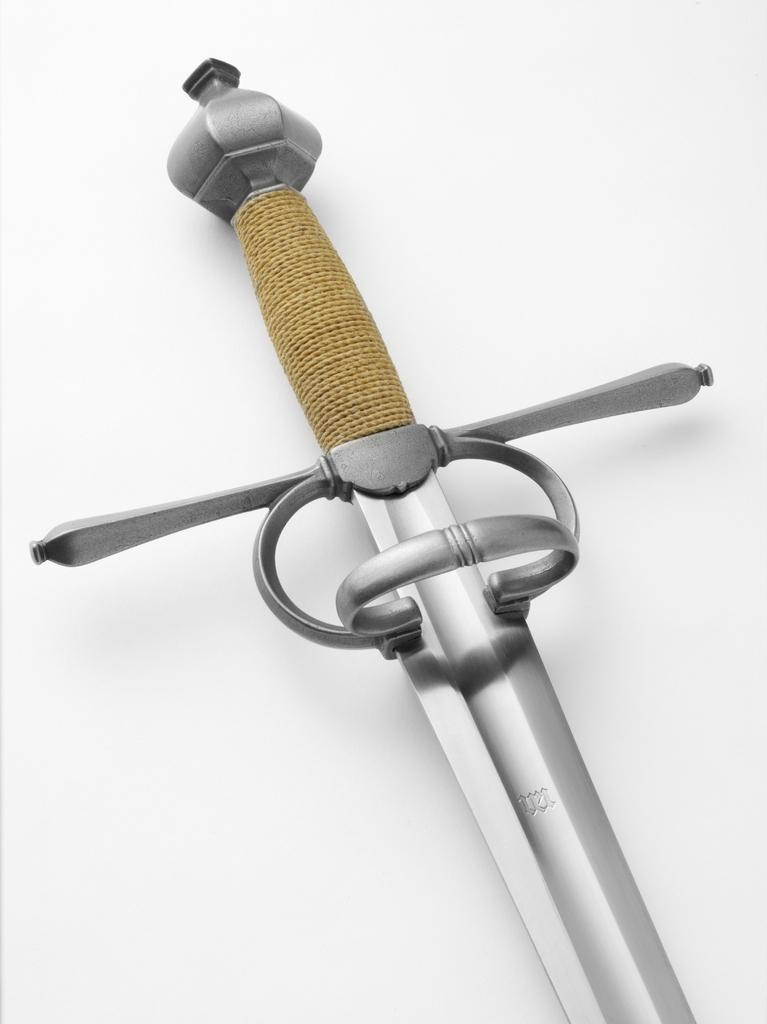Sword: (26, 52, 715, 1023)
